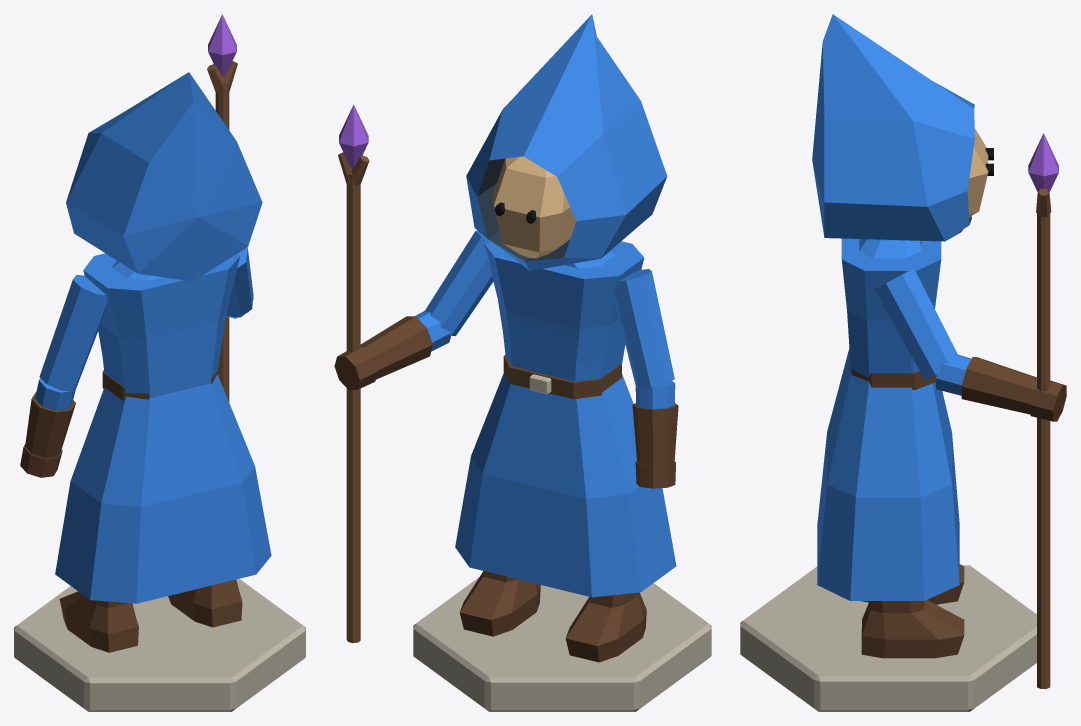
File: human_mage_t1.glb
3 views of the same model, side by side, from view 1: azimuth 30°, elevation 25°; view 2: azimuth 150°, elevation 25°; view 3: azimuth 270°, elevation 25° (orthographic). The views are drawn at different scales.
Parts seen in each view (by area): view 1: Caster_Continuous_Long_Robe, Mage_Pointed_No_Brim_Cap, Foundation_Hexagonal_Stone, left_upper_sleeve, Boot_-1, Boot_1, left_bracer, right_upper_sleeve, Mage_One_Plain_Wooden_Staff_Shaft, Mage_Exactly_One_Violet_Diamond_Crystal, left_lower_sleeve, left_glove_mitten (+1 smaller); view 2: Caster_Continuous_Long_Robe, Mage_Pointed_No_Brim_Cap, Foundation_Hexagonal_Stone, Mage_One_Plain_Wooden_Staff_Shaft, Angular_Face, left_upper_sleeve, Boot_-1, Continuous_Tunic_Bodice, Boot_1, right_upper_sleeve, right_bracer, left_bracer (+6 smaller); view 3: Caster_Continuous_Long_Robe, Mage_Pointed_No_Brim_Cap, Foundation_Hexagonal_Stone, Mage_One_Plain_Wooden_Staff_Shaft, Boot_1, right_upper_sleeve, right_bracer, Angular_Face, Continuous_Tunic_Bodice, Mage_Exactly_One_Violet_Diamond_Crystal, right_glove_mitten, Waist_Belt (+1 smaller).
Boxes of the visible parts, bbox=[...] form: Caster_Continuous_Long_Robe: bbox=[55, 253, 271, 603]; Mage_Pointed_No_Brim_Cap: bbox=[66, 72, 262, 281]; Foundation_Hexagonal_Stone: bbox=[14, 578, 305, 711]; left_upper_sleeve: bbox=[39, 274, 107, 391]; Boot_-1: bbox=[59, 591, 138, 652]; Boot_1: bbox=[168, 579, 242, 627]; left_bracer: bbox=[25, 391, 75, 458]; right_upper_sleeve: bbox=[226, 247, 253, 317]; Mage_One_Plain_Wooden_Staff_Shaft: bbox=[215, 82, 229, 402]; Mage_Exactly_One_Violet_Diamond_Crystal: bbox=[208, 14, 236, 76]; left_lower_sleeve: bbox=[35, 378, 75, 410]; left_glove_mitten: bbox=[20, 444, 62, 477]; Caster_Continuous_Long_Robe: bbox=[455, 240, 676, 597]; Mage_Pointed_No_Brim_Cap: bbox=[466, 14, 667, 270]; Foundation_Hexagonal_Stone: bbox=[413, 577, 711, 711]; Mage_One_Plain_Wooden_Staff_Shaft: bbox=[346, 173, 360, 642]; Angular_Face: bbox=[492, 156, 576, 258]; left_upper_sleeve: bbox=[614, 269, 674, 388]; Boot_-1: bbox=[565, 592, 646, 662]; Continuous_Tunic_Bodice: bbox=[502, 250, 615, 381]; Boot_1: bbox=[459, 571, 540, 636]; right_upper_sleeve: bbox=[424, 230, 493, 336]; right_bracer: bbox=[360, 316, 432, 379]; left_bracer: bbox=[632, 403, 678, 465]; Caster_Continuous_Long_Robe: bbox=[817, 238, 959, 600]; Mage_Pointed_No_Brim_Cap: bbox=[812, 14, 974, 241]; Foundation_Hexagonal_Stone: bbox=[740, 565, 1036, 711]; Mage_One_Plain_Wooden_Staff_Shaft: bbox=[1037, 202, 1050, 688]; Boot_1: bbox=[861, 600, 964, 658]; right_upper_sleeve: bbox=[874, 268, 958, 379]; right_bracer: bbox=[961, 357, 1036, 414]; Angular_Face: bbox=[967, 128, 988, 217]; Continuous_Tunic_Bodice: bbox=[859, 239, 921, 372]; Mage_Exactly_One_Violet_Diamond_Crystal: bbox=[1028, 133, 1058, 193]; right_glove_mitten: bbox=[1030, 380, 1066, 421]; Waist_Belt: bbox=[851, 369, 936, 389].
Size of the model in its own units: 0.9885 by 2.14 by 0.983.
